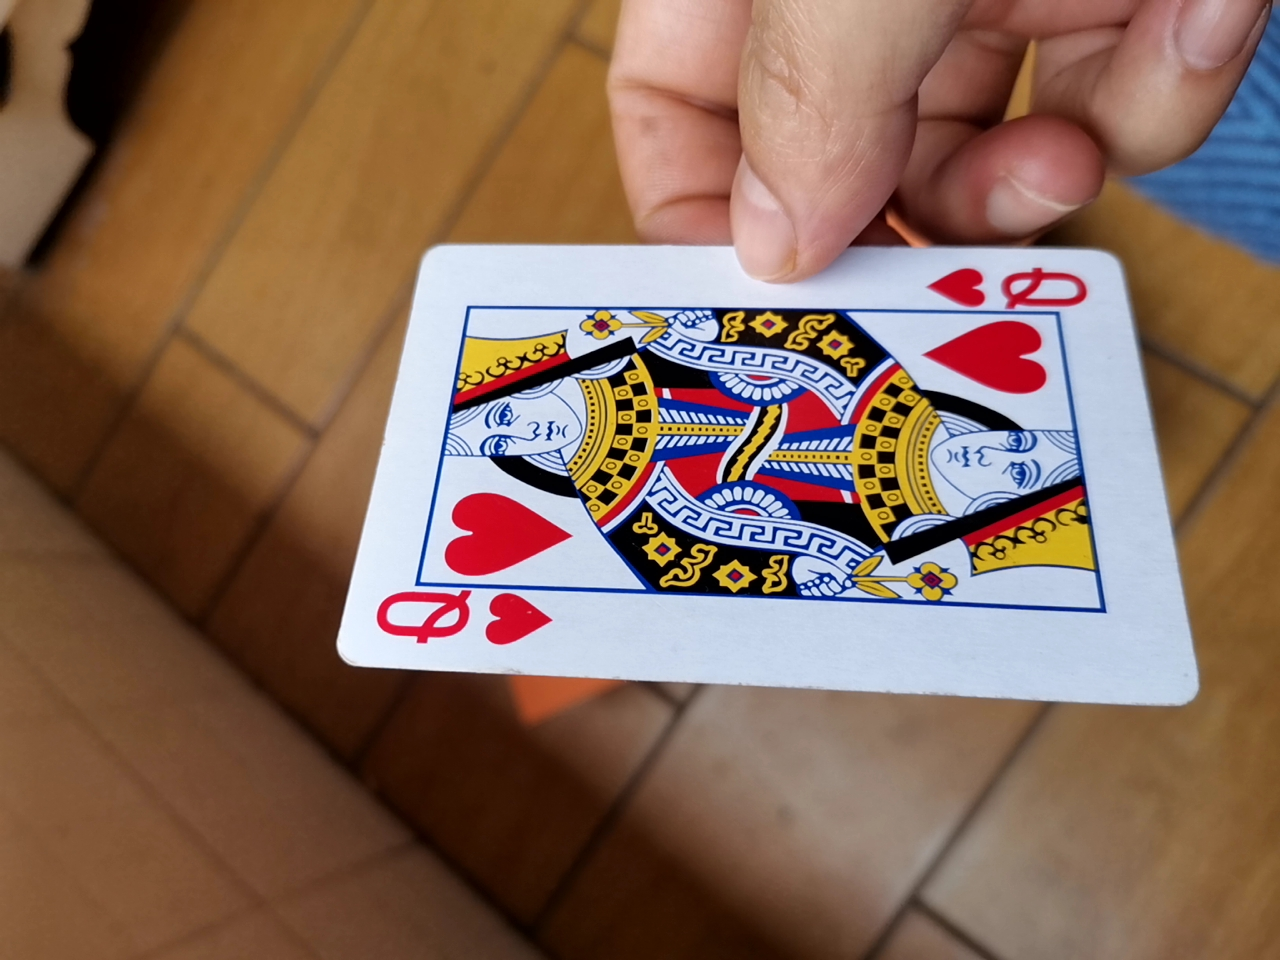hx q: (303, 238, 1186, 708)
